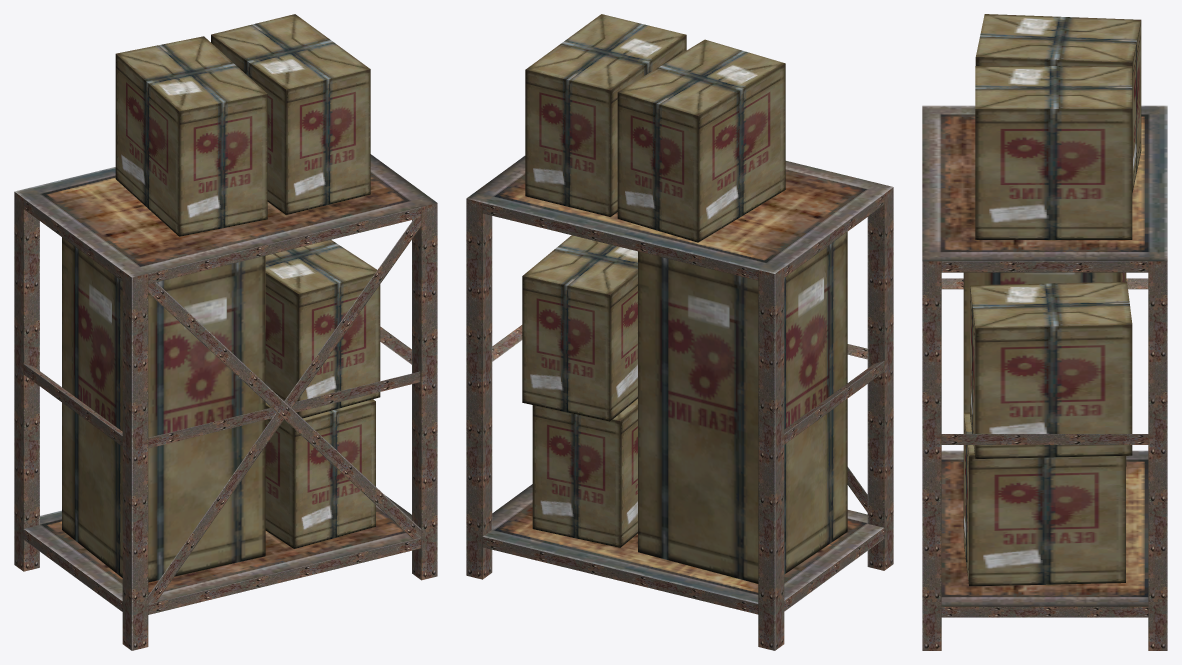
The model's file is storage_shelves_large.fbx.
The picture shows the model from 3 angles, left to right: view 1: azimuth 30°, elevation 25°; view 2: azimuth 150°, elevation 25°; view 3: azimuth 270°, elevation 25°; orthographic projection. The views are drawn at different scales.
Visible parts, largest first — view 1: mesh_1, mesh_0; view 2: mesh_1, mesh_0; view 3: mesh_1, mesh_0.
Boxes of the visible parts, box(x1,y1,x2,y2) form: mesh_1: box(62, 14, 380, 582); mesh_0: box(14, 154, 437, 650); mesh_1: box(522, 14, 847, 583); mesh_0: box(466, 156, 893, 650); mesh_1: box(963, 14, 1141, 586); mesh_0: box(922, 105, 1167, 650).
Bounding box in the file's own units: 300 × 468 × 200.
Materials: 2 (2 with a texture image).
